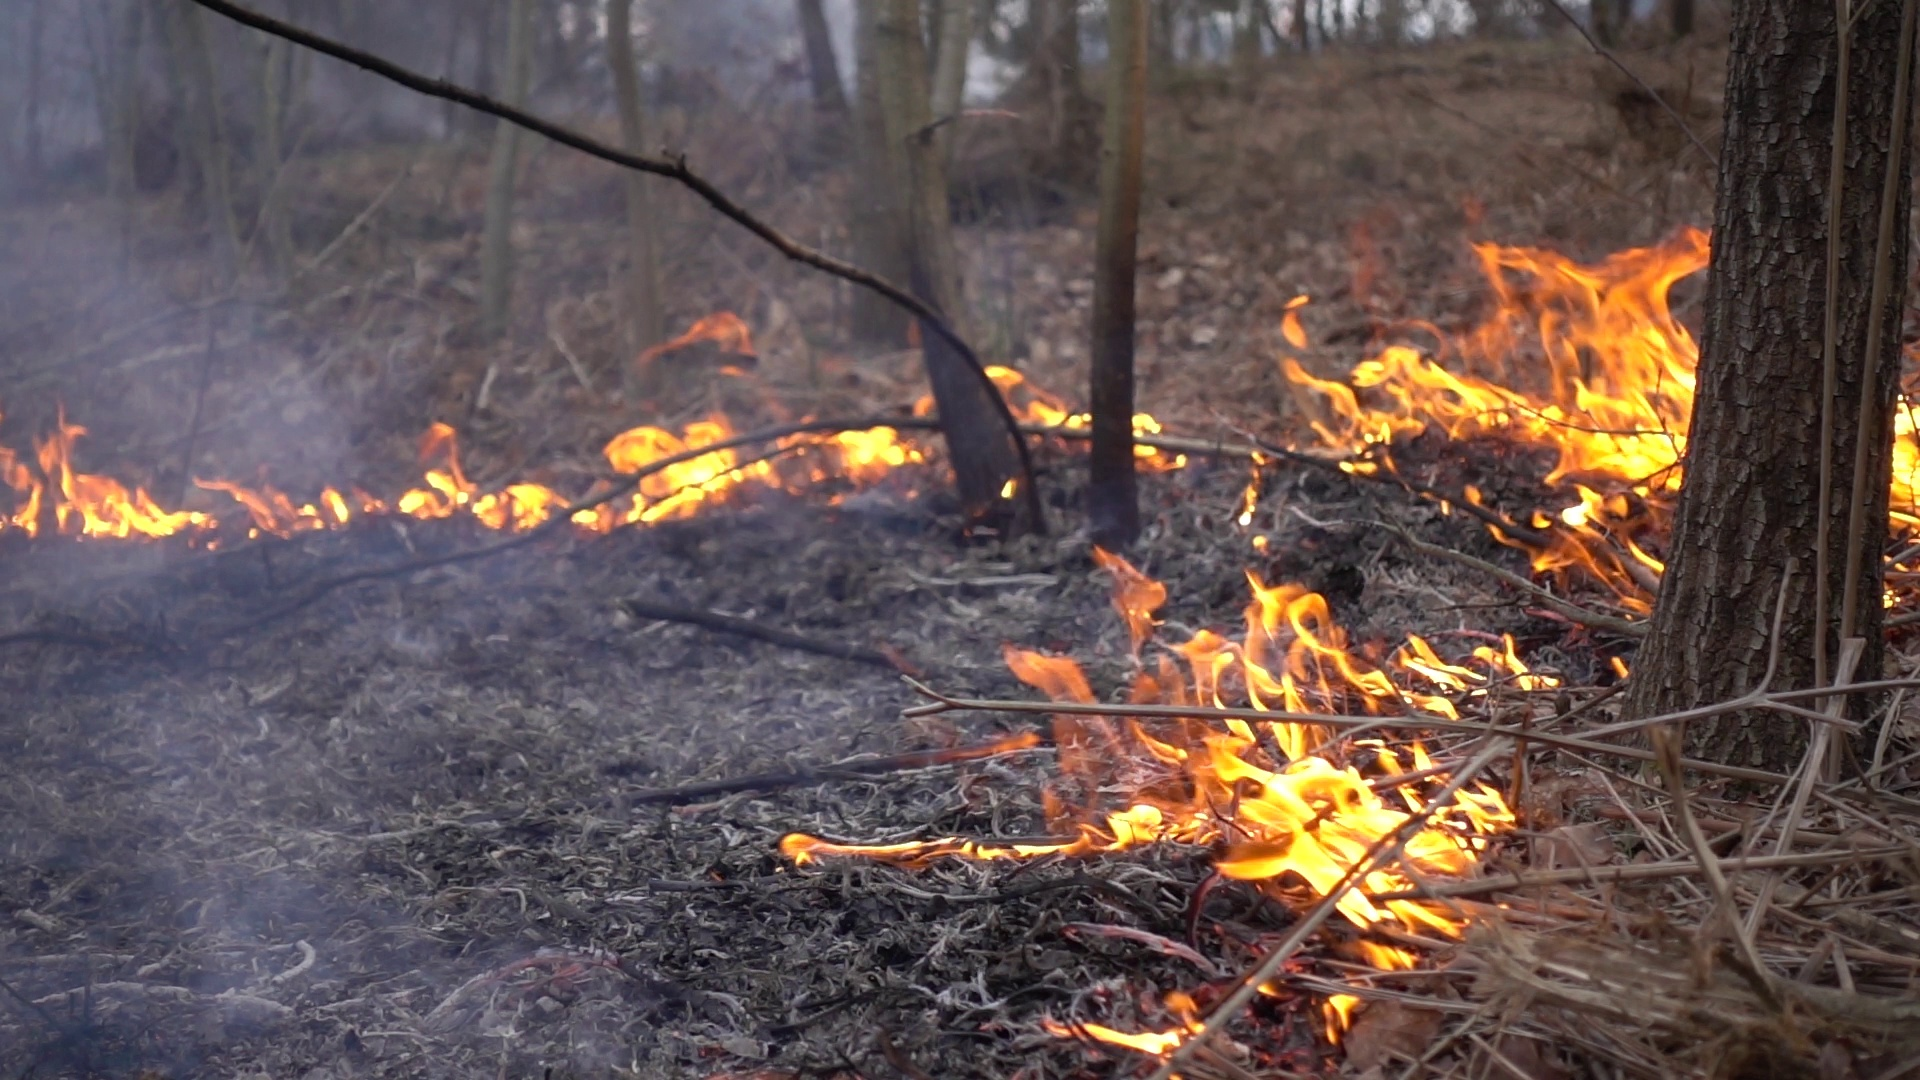fire: (1025, 574, 1455, 909), (1296, 229, 1687, 487), (12, 431, 189, 538), (386, 436, 563, 534), (599, 414, 740, 518), (820, 429, 915, 484), (1884, 401, 1917, 517)
